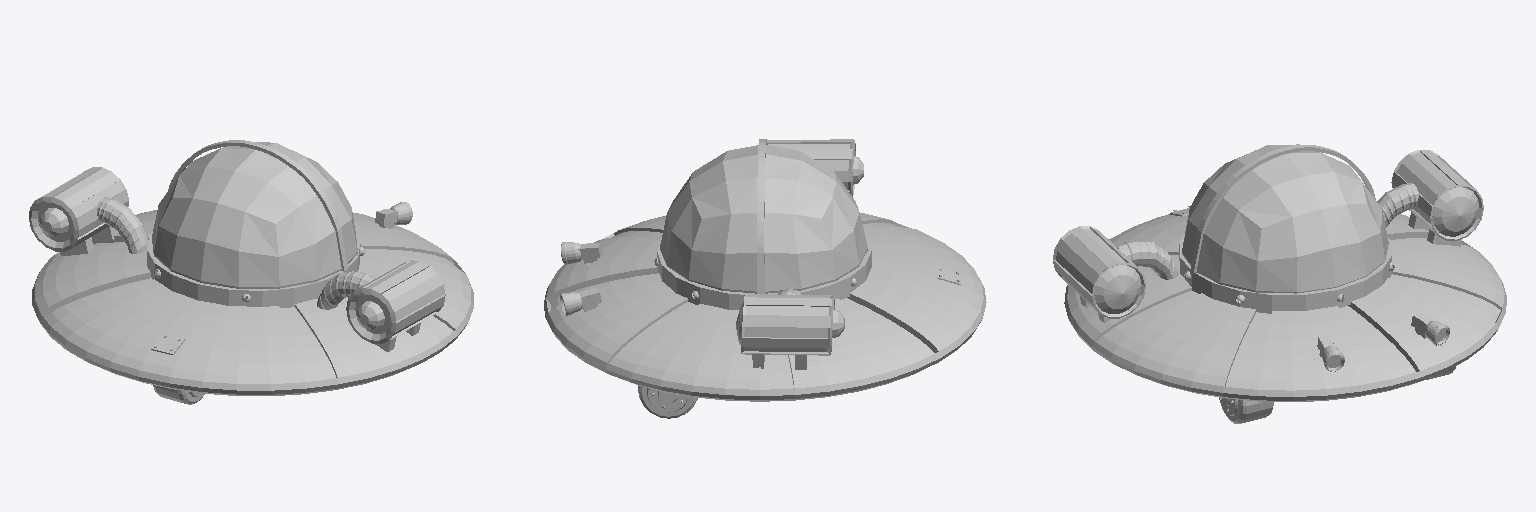
File: Nave.obj
The picture shows the model from 3 angles: view 1: azimuth 30°, elevation 25°; view 2: azimuth 150°, elevation 25°; view 3: azimuth 270°, elevation 25°; orthographic projection.
Visible parts, largest first — view 1: Carcasa.001, Cupula, Foco.001, Foco2.006, Carcasa.003, Carcasa, Foco2, Foco.003, Foco2.001, Foco.005; view 2: Carcasa.001, Cupula, Foco2.006, Carcasa.003, Foco.001, Rueda.002, Carcasa; view 3: Carcasa.001, Cupula, Foco.001, Foco2.006, Carcasa.003, Carcasa, Foco.003, Foco2, Rueda.001.
Boxes of the visible parts, x1=… form: Carcasa.001: x1=32, y1=210, x2=473, y2=395; Cupula: x1=152, y1=142, x2=357, y2=288; Foco.001: x1=346, y1=260, x2=445, y2=343; Foco2.006: x1=29, y1=167, x2=128, y2=251; Carcasa.003: x1=147, y1=232, x2=360, y2=307; Carcasa: x1=168, y1=140, x2=347, y2=271; Foco2: x1=97, y1=197, x2=147, y2=253; Foco.003: x1=317, y1=271, x2=376, y2=309; Foco2.001: x1=39, y1=208, x2=68, y2=236; Foco.005: x1=356, y1=301, x2=384, y2=329; Carcasa.001: x1=544, y1=213, x2=986, y2=401; Cupula: x1=660, y1=145, x2=867, y2=293; Foco2.006: x1=736, y1=294, x2=834, y2=355; Carcasa.003: x1=657, y1=235, x2=871, y2=309; Foco.001: x1=767, y1=139, x2=855, y2=196; Rueda.002: x1=638, y1=385, x2=697, y2=418; Carcasa: x1=757, y1=139, x2=767, y2=293; Carcasa.001: x1=1064, y1=214, x2=1506, y2=401; Cupula: x1=1182, y1=144, x2=1388, y2=293; Foco.001: x1=1053, y1=226, x2=1145, y2=318; Foco2.006: x1=1391, y1=150, x2=1483, y2=240; Carcasa.003: x1=1179, y1=236, x2=1391, y2=313; Carcasa: x1=1190, y1=145, x2=1375, y2=274; Foco.003: x1=1116, y1=240, x2=1177, y2=279; Foco2: x1=1377, y1=183, x2=1418, y2=226; Rueda.001: x1=1219, y1=397, x2=1273, y2=423.
Size of the model in its own units: 5.93 by 3.22 by 6.09.